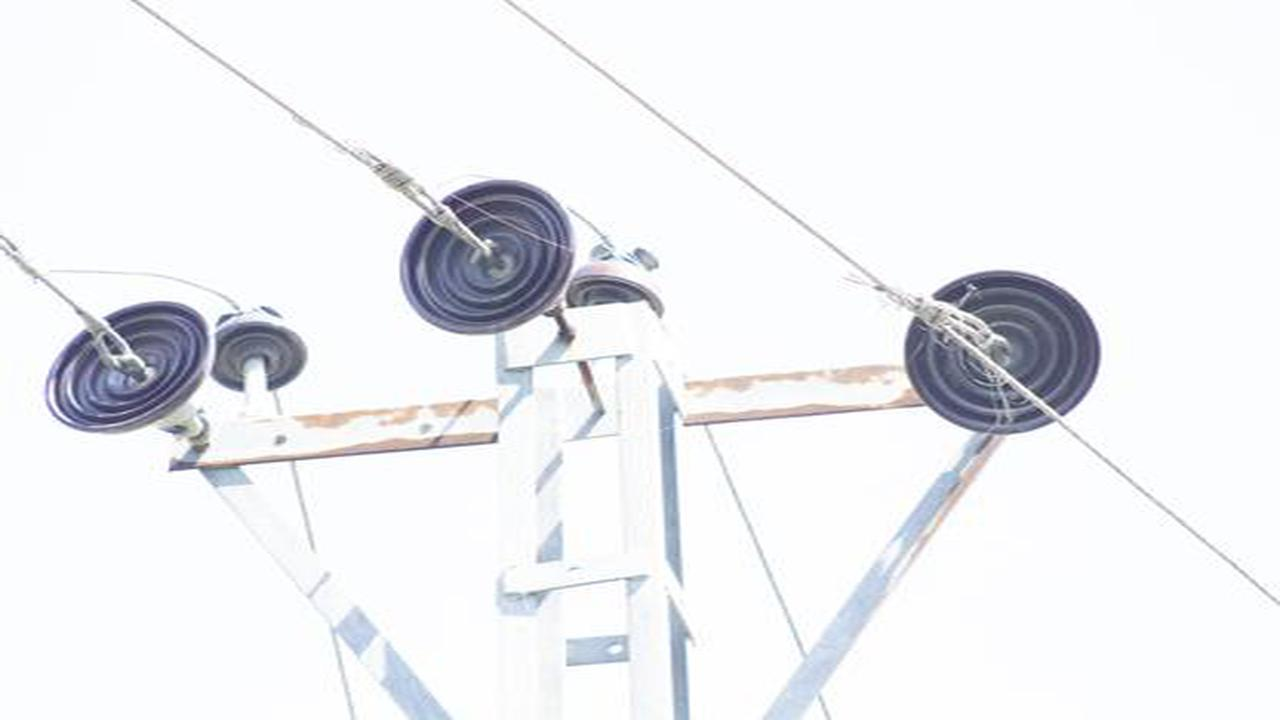insulator_disc: (901, 263, 1109, 437), (398, 173, 573, 336), (42, 295, 213, 433)
insulator_pin: (215, 305, 315, 388), (575, 237, 675, 318)
